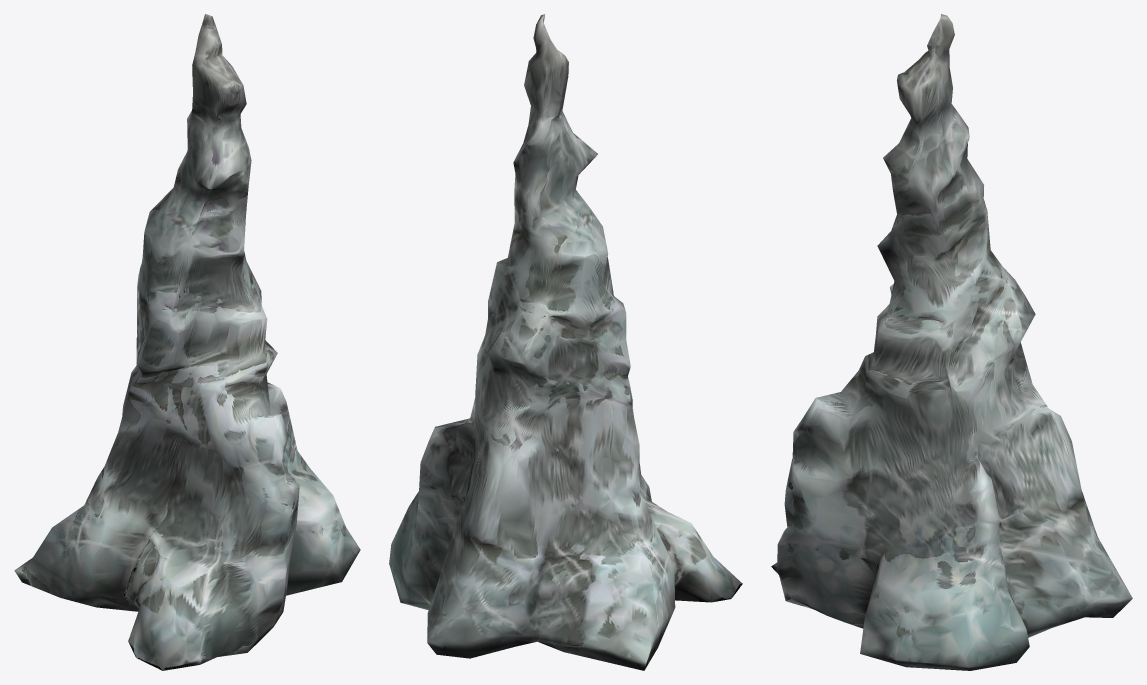
Rendered from ice_shard.fbx.
3 renders of one model, left to right at view 1: azimuth 30°, elevation 25°; view 2: azimuth 150°, elevation 25°; view 3: azimuth 270°, elevation 25°, orthographic. The views are drawn at different scales.
Visible parts, largest first — view 1: ice_shard_mesh; view 2: ice_shard_mesh; view 3: ice_shard_mesh.
Part boxes in pixels (<box>): ice_shard_mesh: <box>14,14,360,670</box>; ice_shard_mesh: <box>389,14,742,670</box>; ice_shard_mesh: <box>771,14,1132,670</box>.
Bounding box in the file's own units: 1.13 × 2.2 × 1.19.
